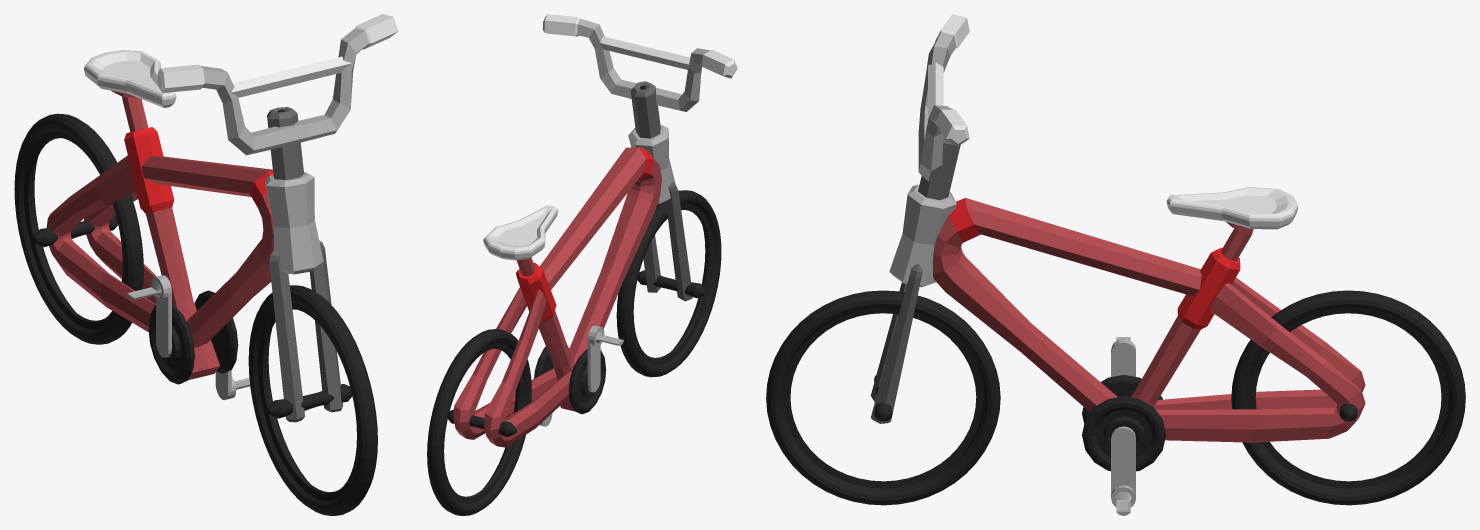
The model's file is BMXBikeE.fbx.
The picture shows the model from 3 angles, left to right: view 1: azimuth 30°, elevation 25°; view 2: azimuth 150°, elevation 25°; view 3: azimuth 270°, elevation 25°; orthographic projection. The views are drawn at different scales.
Parts seen in each view (by area): view 1: Frame.028, Handlebar.028, FrontWheel, BackWheel.029, Cylinder.169, Circle.160, Circle.163, Circle.161, Circle.162; view 2: Frame.028, Handlebar.028, FrontWheel, BackWheel.029, Circle.160, Cylinder.169, Circle.163; view 3: Frame.028, FrontWheel, BackWheel.029, Handlebar.028, Circle.161, Cylinder.169, Circle.162, Circle.163.
Part boxes in pixels (x1,y1,x2,y2): Frame.028: (46,50,273,380); Handlebar.028: (157,14,398,422); FrontWheel: (248,285,377,515); BackWheel.029: (14,113,143,344); Cylinder.169: (264,172,323,274); Circle.160: (148,304,194,384); Circle.163: (127,275,171,357); Circle.161: (194,290,238,373); Circle.162: (215,370,250,400); Frame.028: (453,147,661,447); Handlebar.028: (542,14,737,301); FrontWheel: (616,190,721,377); BackWheel.029: (427,329,531,515); Circle.160: (568,349,606,414); Cylinder.169: (628,124,675,203); Circle.163: (587,325,623,392); Frame.028: (933,187,1365,442); FrontWheel: (766,290,1000,505); BackWheel.029: (1231,290,1465,505); Handlebar.028: (870,14,969,423); Circle.161: (1082,396,1165,471); Cylinder.169: (889,184,956,287); Circle.162: (1111,426,1135,515); Circle.163: (1111,337,1135,376).
Size of the model in its own units: 274 by 485 by 708.
